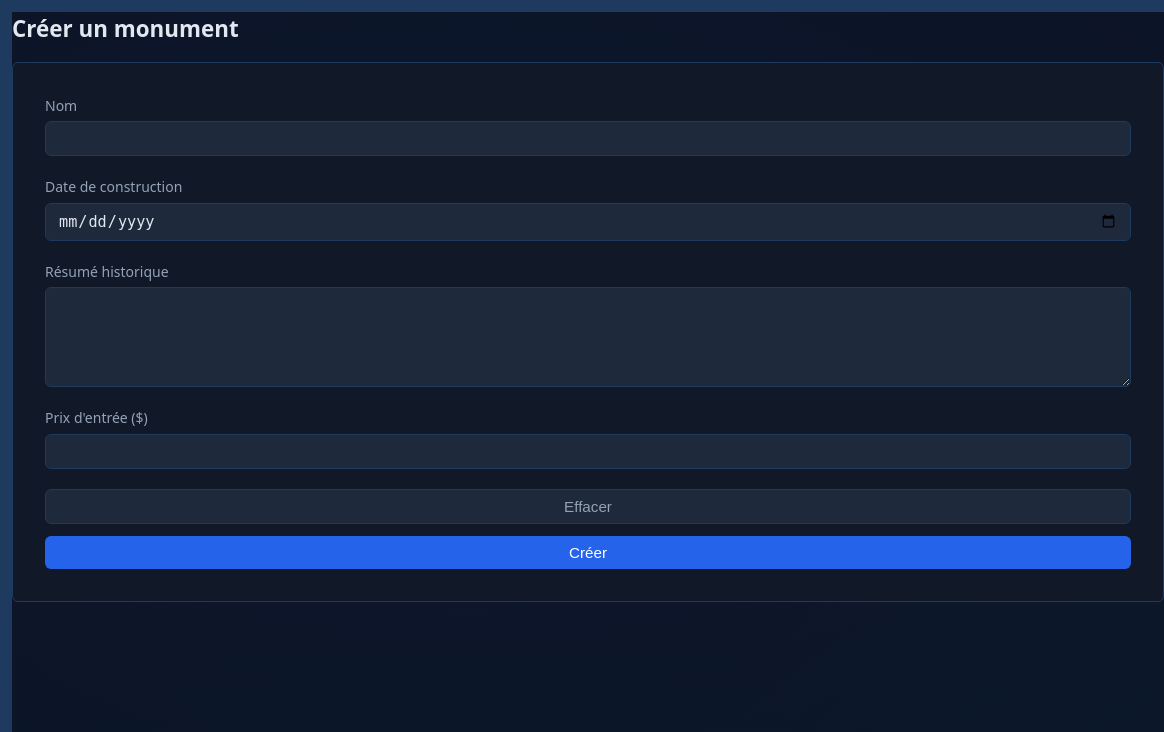
Test: FormulaireMonument › affiche un message d'erreur si les champs sont vides a la soumission
Click the button "Créer" at (588, 552), box [45,536,1131,569]
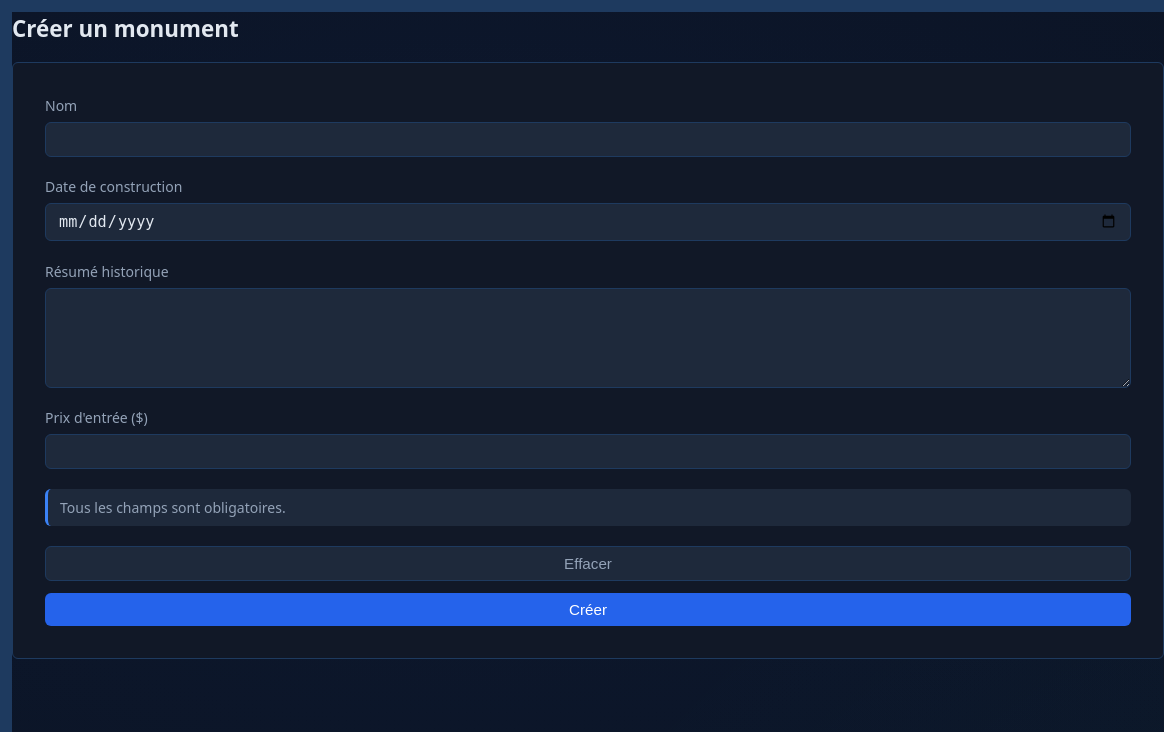
Check: the text "Tous les champs sont obligatoires." is shown, box [45,489,1131,526]
